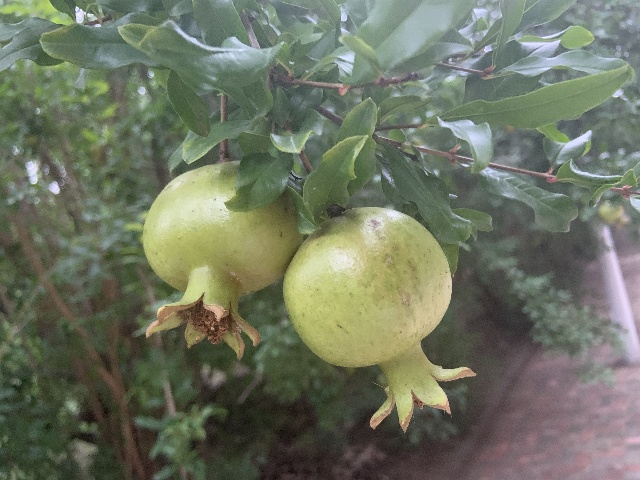mid-growth: (282, 206, 476, 433), (140, 161, 304, 360)
